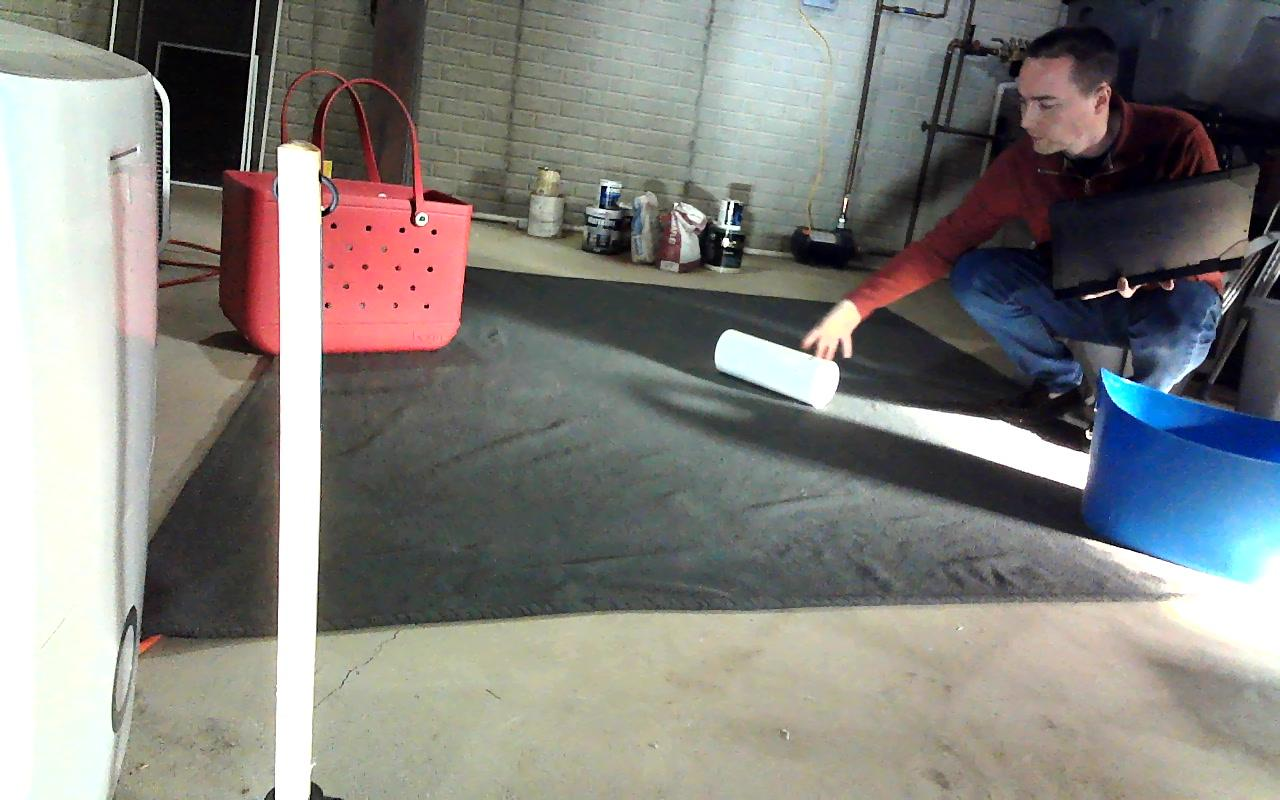coral: (714, 331, 839, 407)
